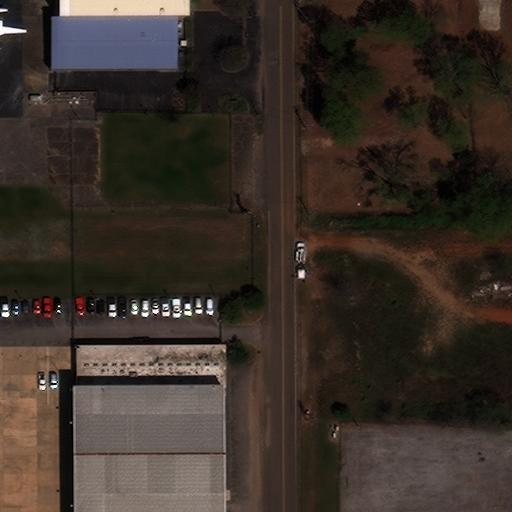Medium Civil Transport: (0, 7, 25, 51)
